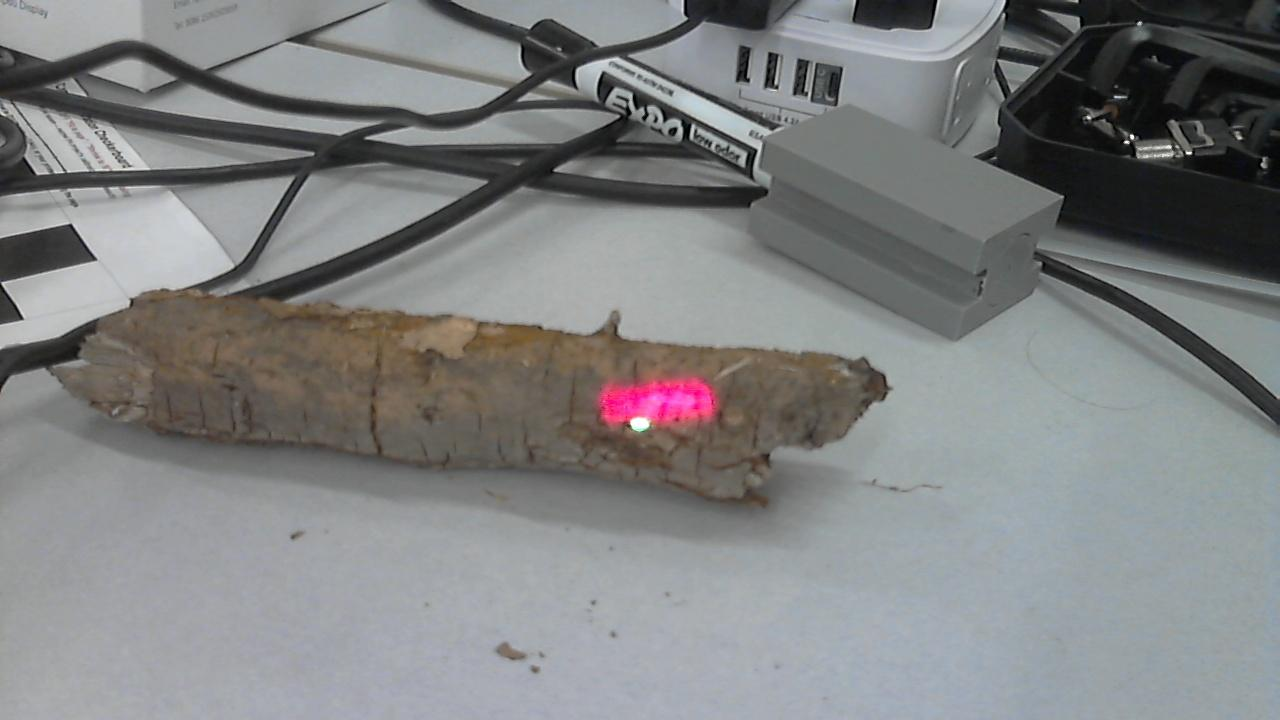Object tree branch - Material wood - Pdfname pipoaepaf: (597, 374, 723, 438)
